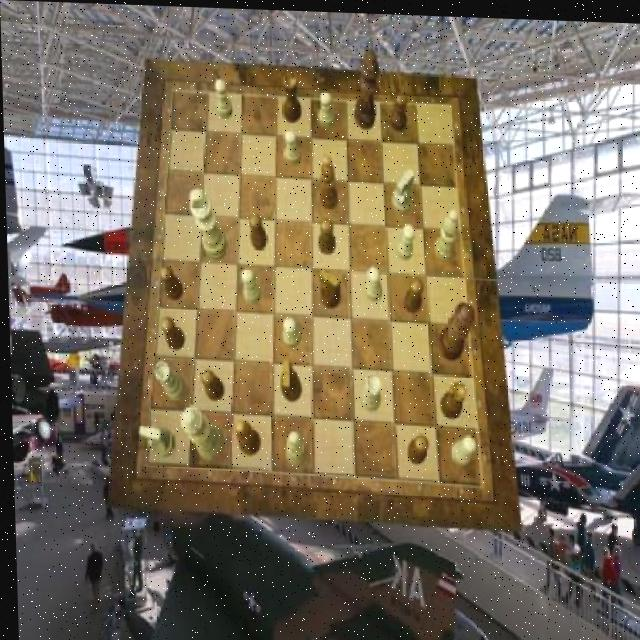bishop: (318, 152, 337, 207), (233, 419, 258, 454)
black-bishop: (352, 45, 381, 128)
black-king: (277, 357, 299, 400), (317, 266, 339, 308)
black-knight: (160, 315, 184, 350), (159, 265, 182, 300), (198, 367, 222, 400), (400, 275, 421, 310), (404, 431, 426, 463), (388, 89, 406, 128), (315, 215, 333, 252), (249, 212, 267, 248)
black-pawn: (435, 298, 474, 360)
black-queen: (437, 379, 465, 418), (282, 71, 301, 121)
black-rook: (431, 206, 457, 261), (283, 428, 306, 465)
white-bishop: (187, 187, 226, 259)
white-king: (135, 423, 172, 457), (389, 165, 414, 212)
white-knight: (448, 431, 474, 464), (392, 221, 413, 257), (214, 77, 232, 118), (239, 267, 259, 303), (283, 128, 301, 165), (316, 88, 333, 126), (363, 263, 381, 298), (280, 315, 299, 347)
white-pawn: (177, 403, 221, 461)
white-queen: (151, 361, 183, 402), (357, 370, 379, 409)
